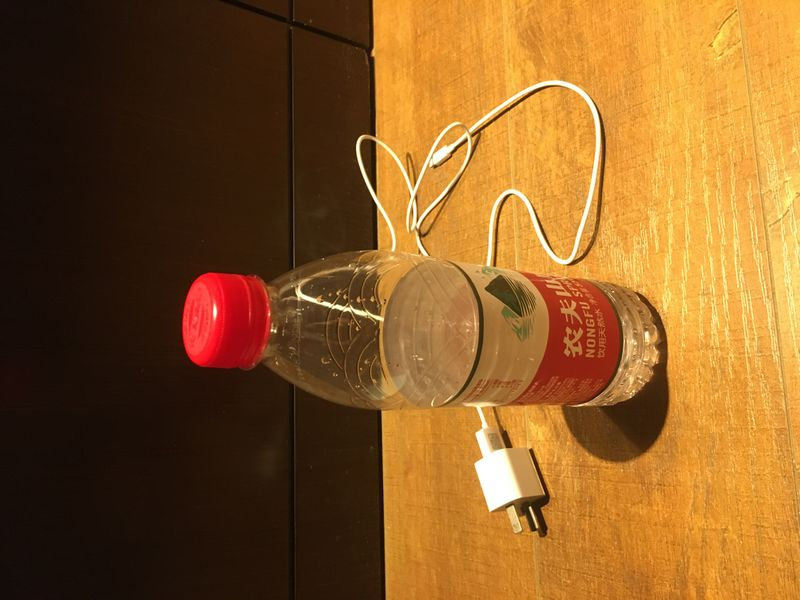5eca67a90202601e8cb8d104: (180, 245, 664, 415)
